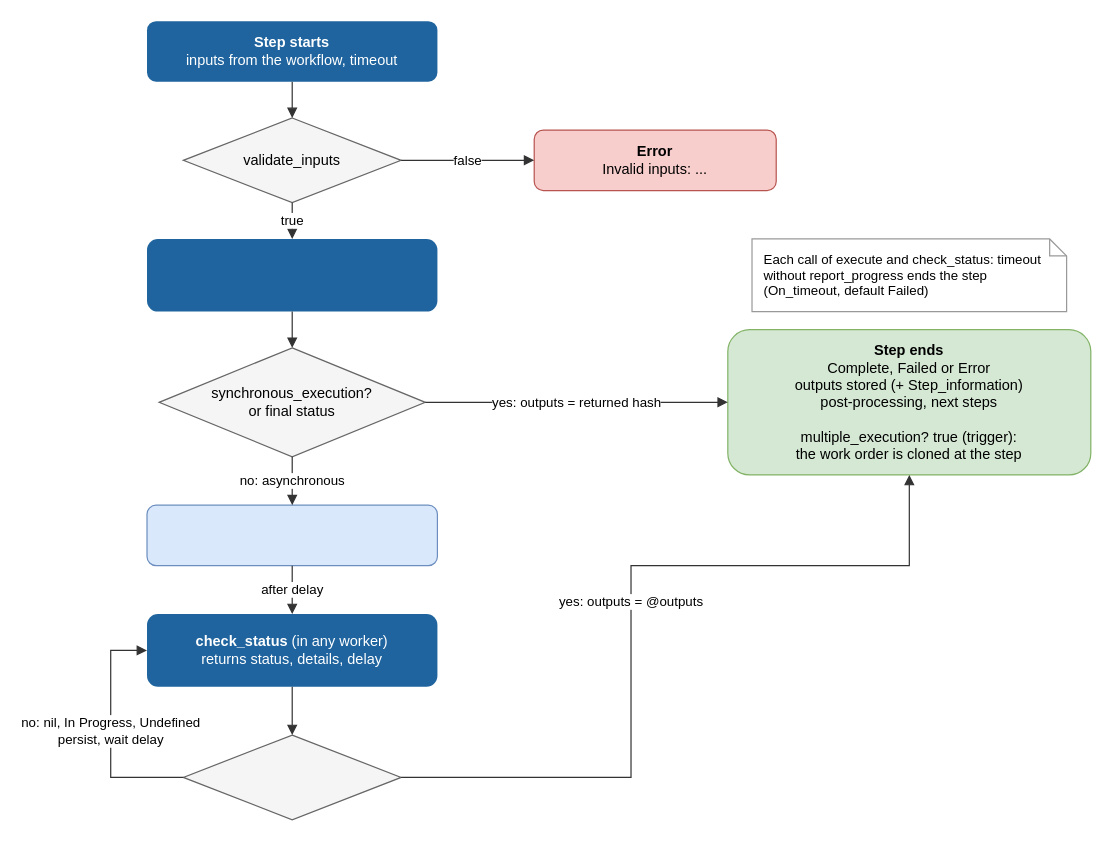
This 1112x841 diagram has some shape labels left out. Here are the shapes that lost their labels. From the top down, the centre of each, then its label:
At point 291,274: "execute (in a worker) returns status, details, outputs or delay".
At point 291,535: "Persist the plugin object (Marshal) free the worker".
At point 291,777: "final status".
